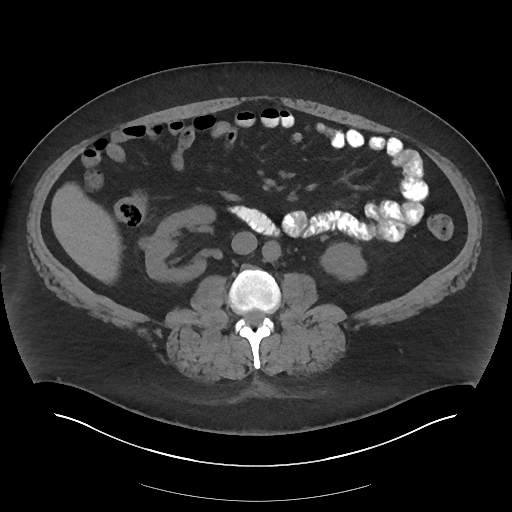Lesion: (138, 235, 156, 255)
